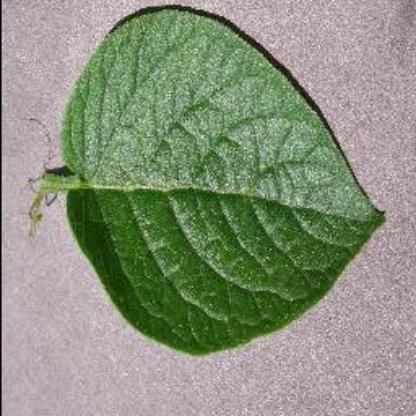Healthy-plant: (36, 7, 392, 362)
